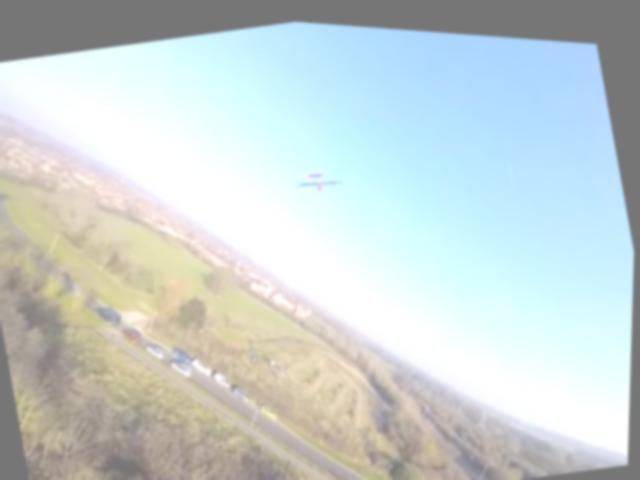uav: (284, 149, 349, 204)
